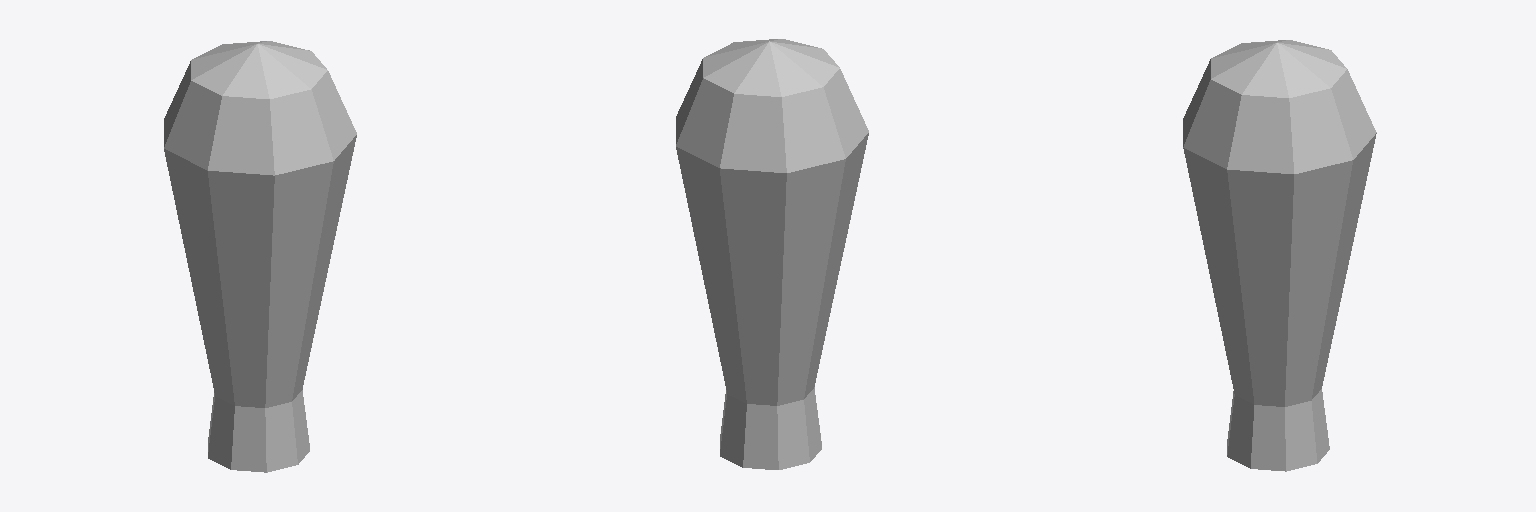
File: packa_2.obj
The picture shows the model from 3 angles: view 1: azimuth 30°, elevation 25°; view 2: azimuth 150°, elevation 25°; view 3: azimuth 270°, elevation 25°; orthographic projection.
Visible parts, largest first — view 1: Sphere.002; view 2: Sphere.002; view 3: Sphere.002.
Boxes of the visible parts, box(x1,y1,x2,y2) form: Sphere.002: box(164, 41, 356, 472); Sphere.002: box(676, 39, 868, 469); Sphere.002: box(1183, 40, 1376, 471).
Size of the model in its own units: 0.0318 by 0.0763 by 0.0314.